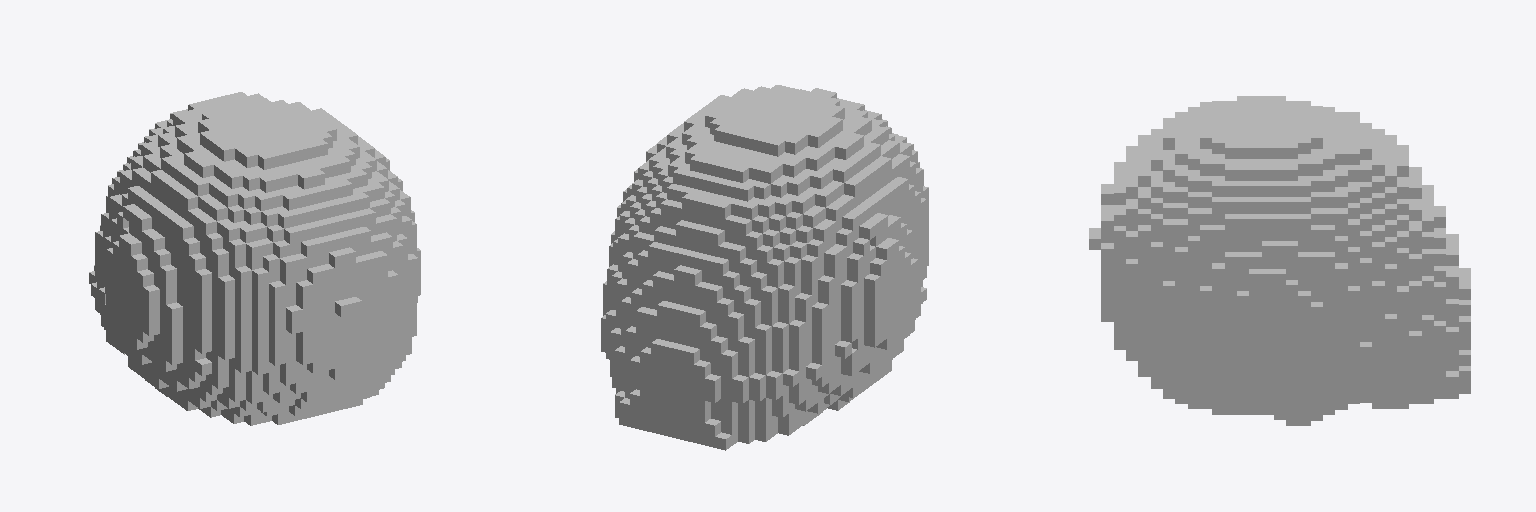
The model's file is helmet one.obj.
3 views of the same model, side by side, from view 1: azimuth 30°, elevation 25°; view 2: azimuth 150°, elevation 25°; view 3: azimuth 270°, elevation 25° (orthographic).
Visible parts, largest first — view 1: helmet_one; view 2: helmet_one; view 3: helmet_one.
Boxes of the visible parts, x1=… form: helmet_one: x1=89, y1=92, x2=420, y2=425; helmet_one: x1=601, y1=85, x2=928, y2=450; helmet_one: x1=1089, y1=96, x2=1470, y2=425.
Size of the model in its own units: 2.4 by 2.4 by 3.1.